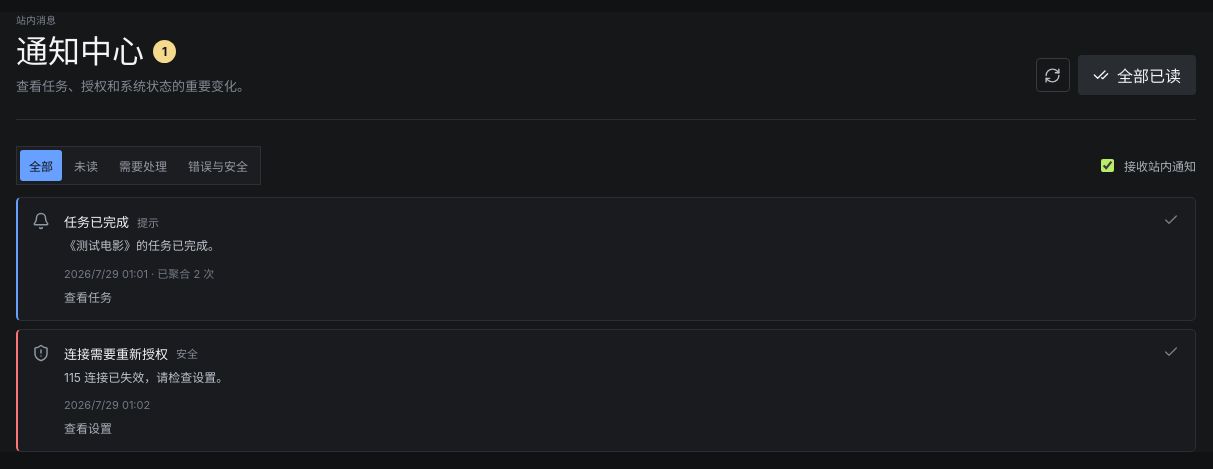
Scenario: NotificationCenterView › shows only error and security notifications in the error filter
The width and height of the screenshot is (1213, 469).
Click the button "错误与安全".
click(218, 166)  # box left=179, top=150, right=257, bottom=181
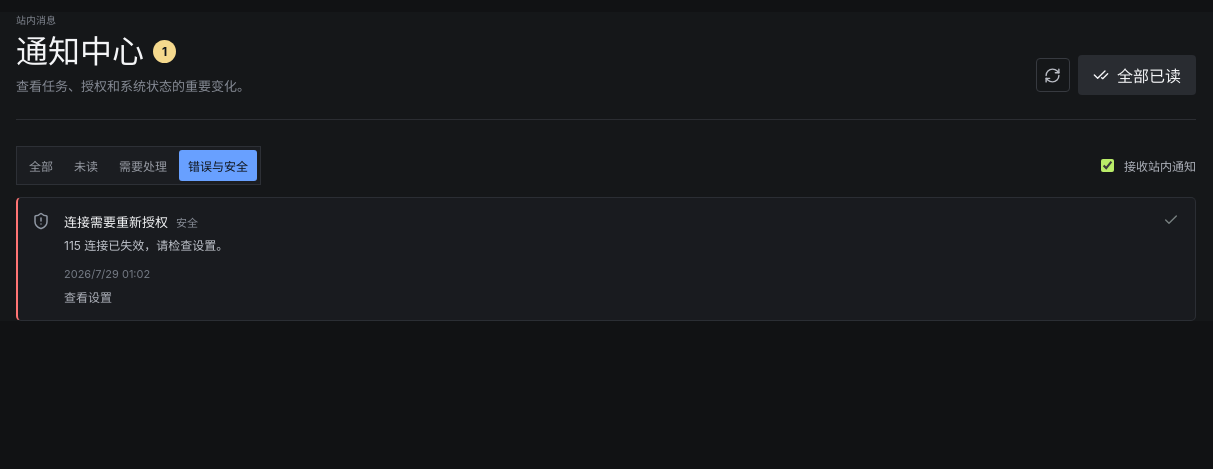
Check: the text "连接需要重新授权" is shown, box left=64, top=212, right=168, bottom=231
Check: the number of elements with class "notification-item" is 1, box left=16, top=197, right=1196, bottom=321
Check: the text "任务已完成" is gone
